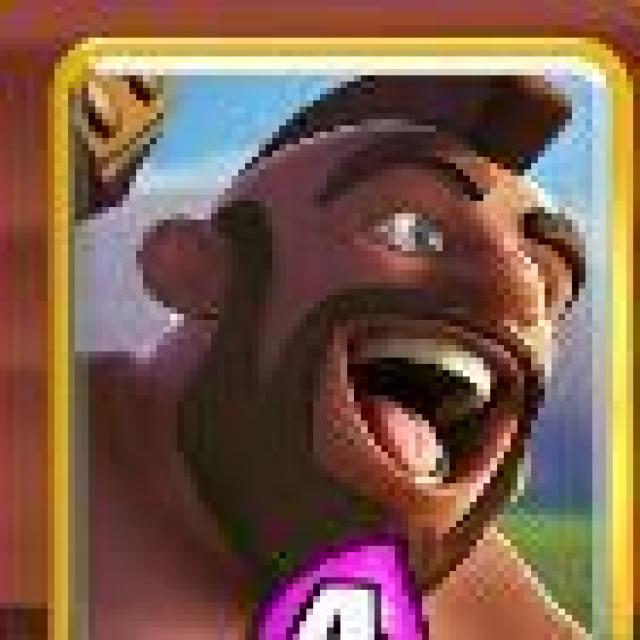Hog_Rider: (60, 37, 638, 640)
